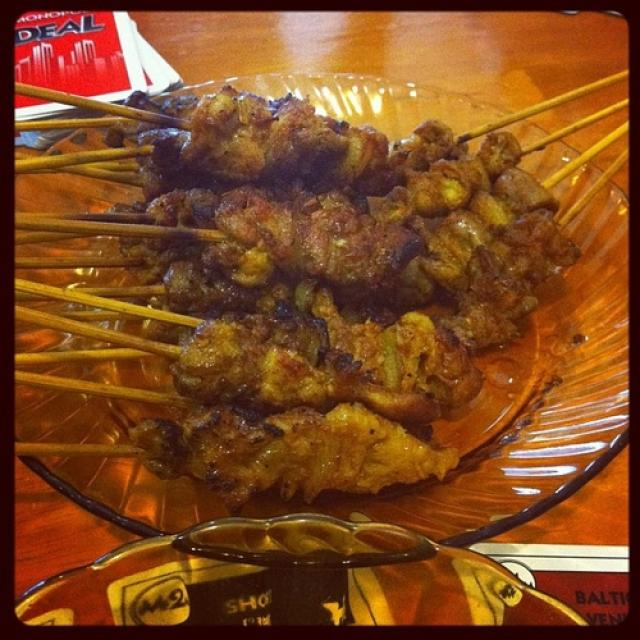牛肉菜式: (62, 53, 596, 535)
